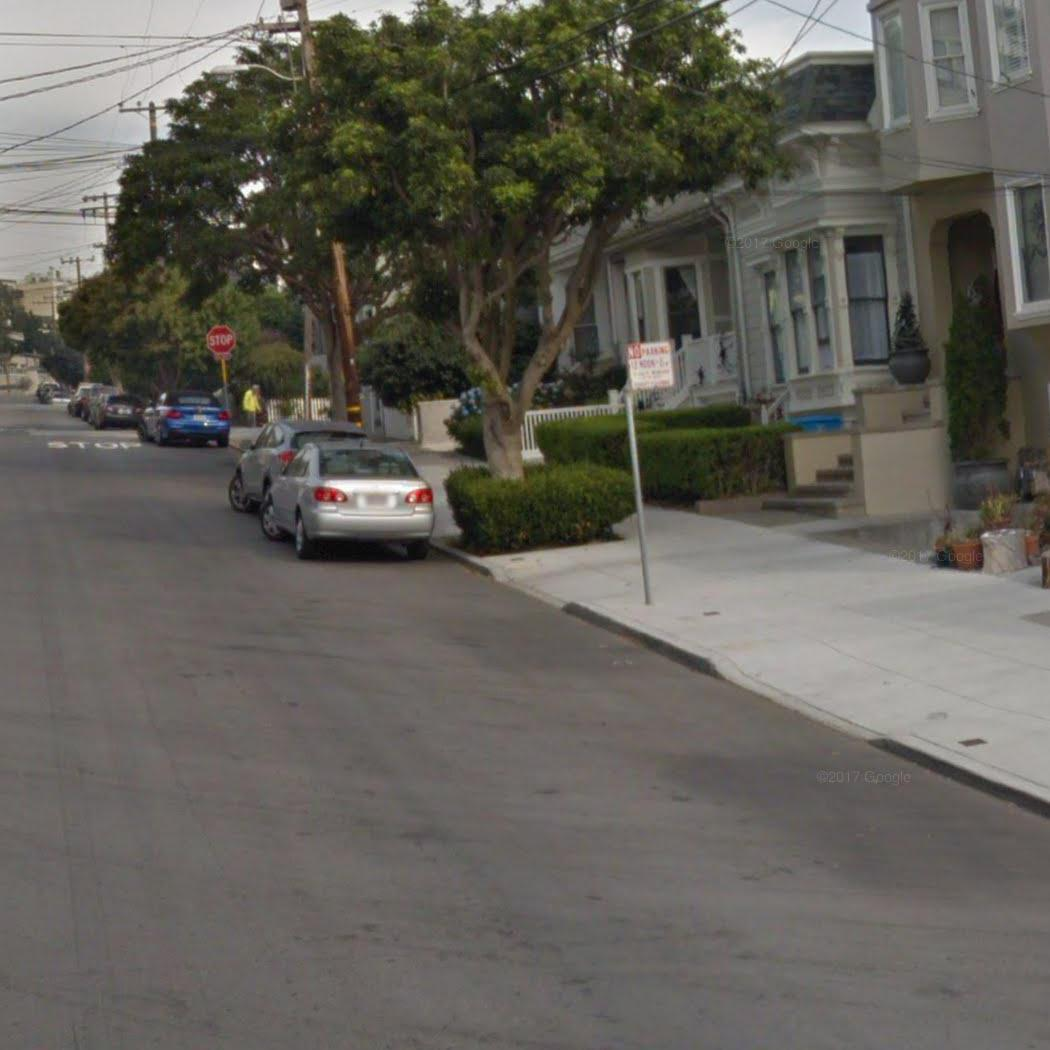No Parking: (622, 340, 678, 391)
